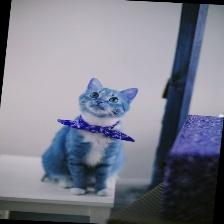kedo: (43, 78, 138, 196)
